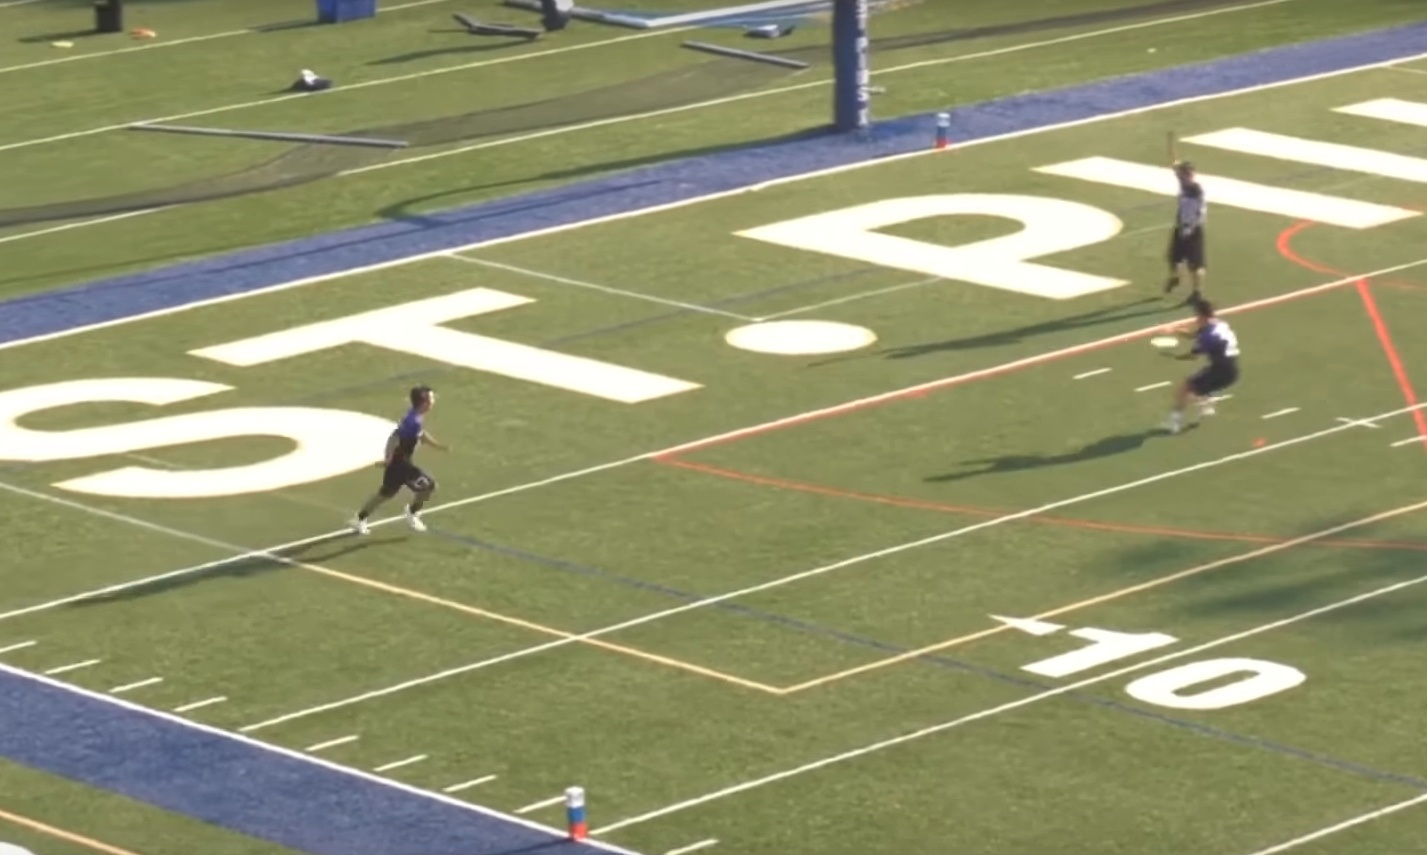frisbee: (1150, 336, 1179, 348)
